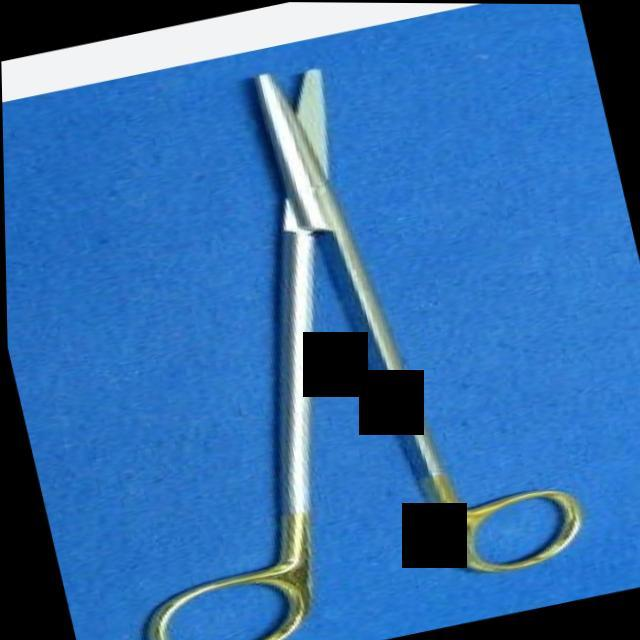Metzenbaum Sciccors: (8, 21, 610, 640)
